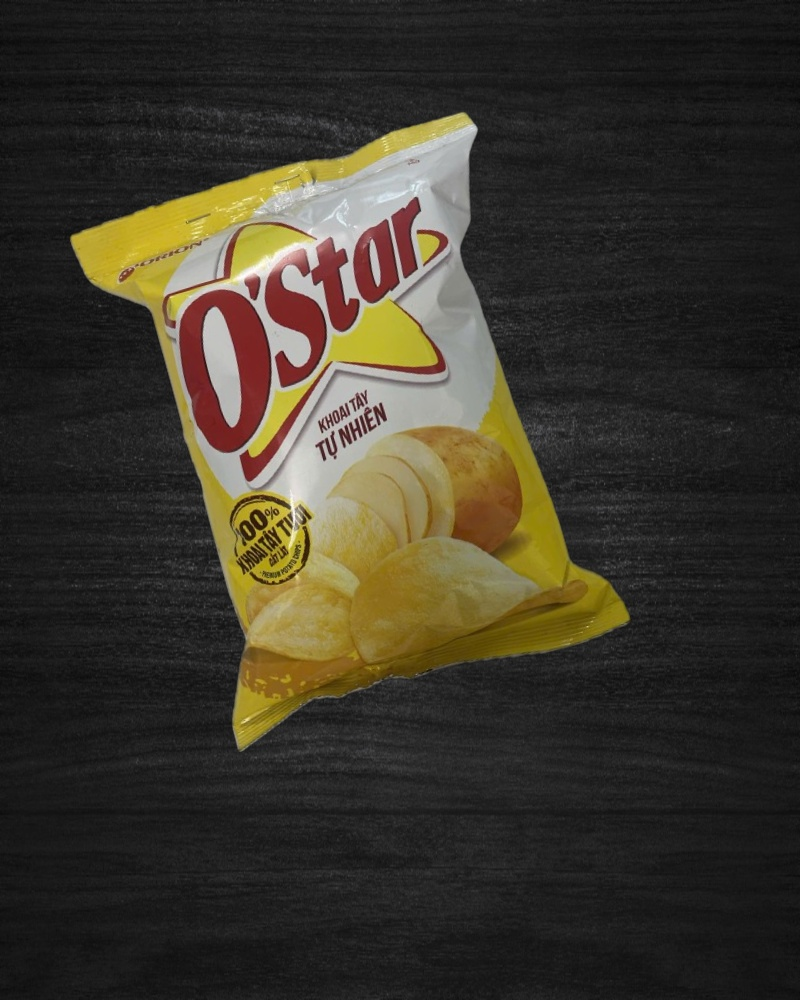O'star: (66, 104, 638, 760)
